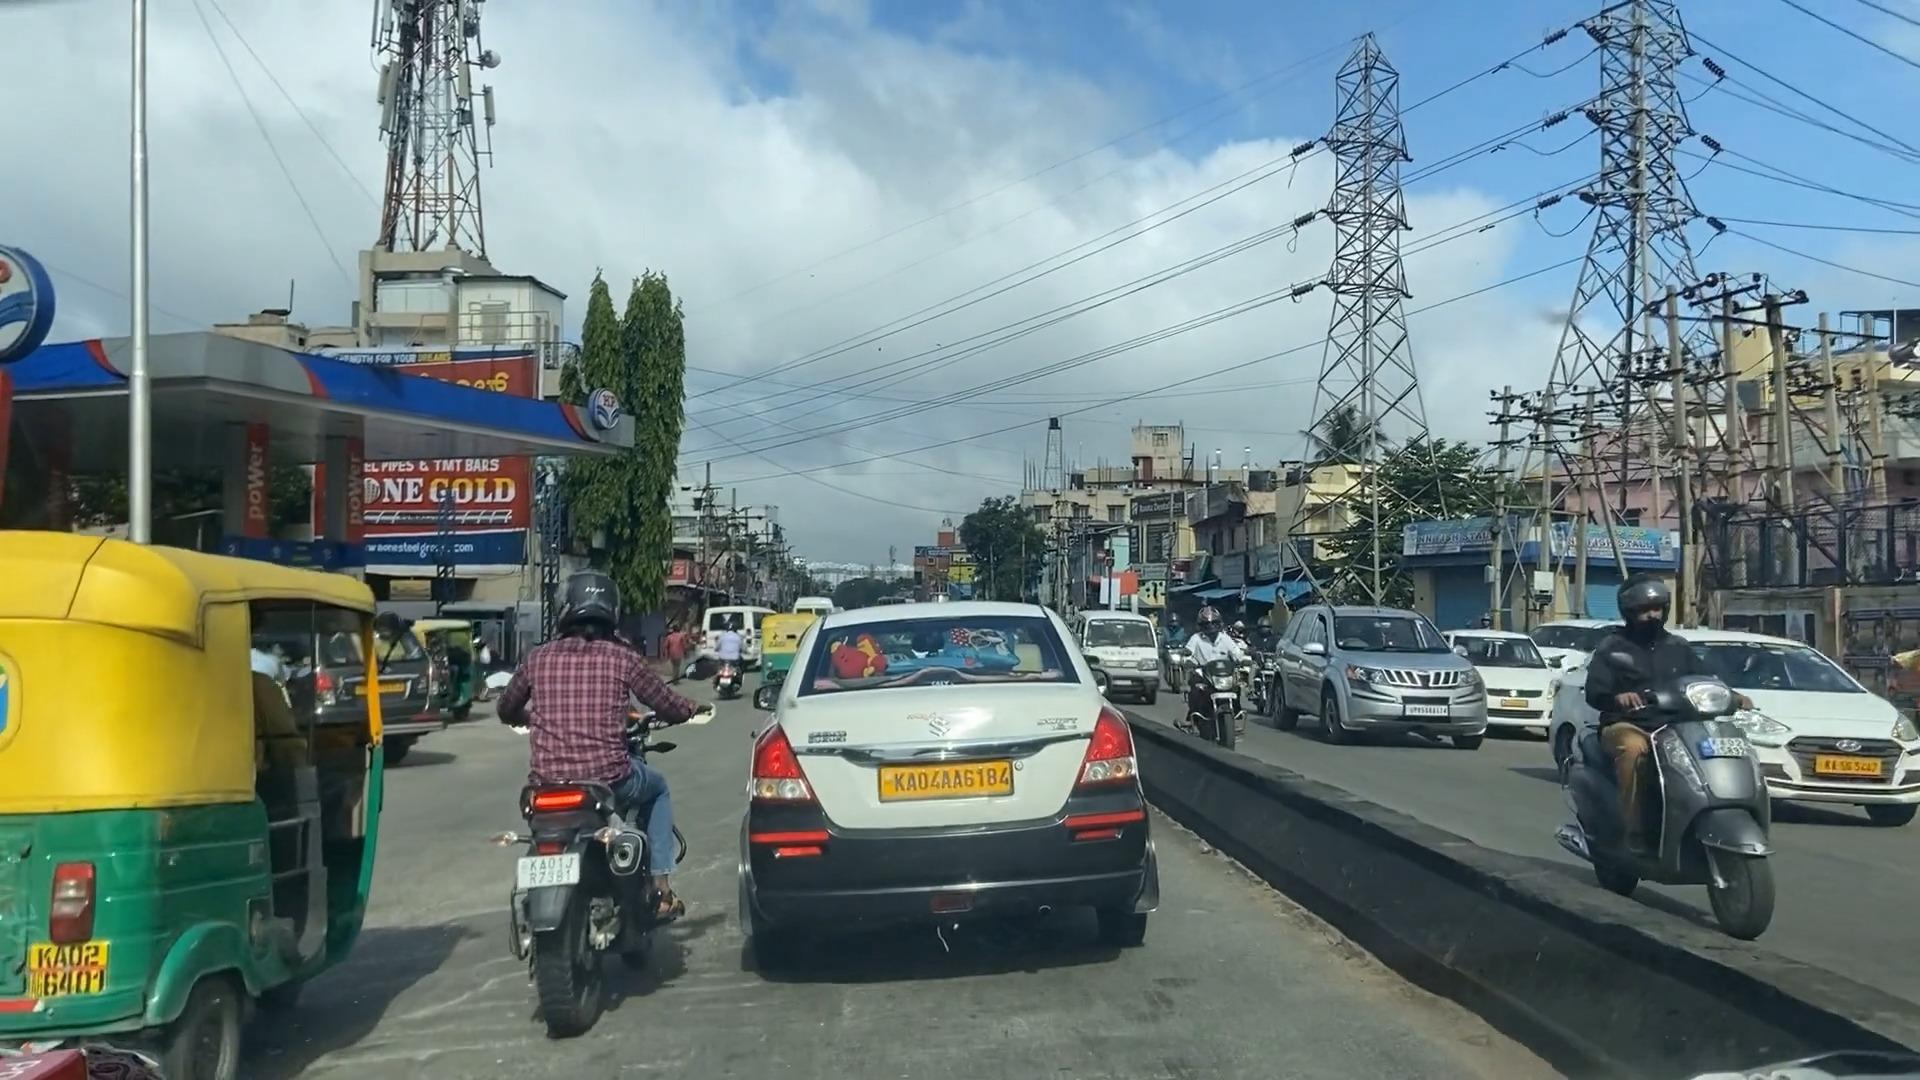LMV: (1, 538, 378, 1080), (757, 607, 1137, 955), (505, 554, 671, 1027)
